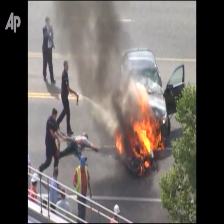fire_h: (116, 83, 165, 157)
fire_l: (115, 133, 123, 156), (144, 160, 149, 167), (140, 165, 143, 173)
